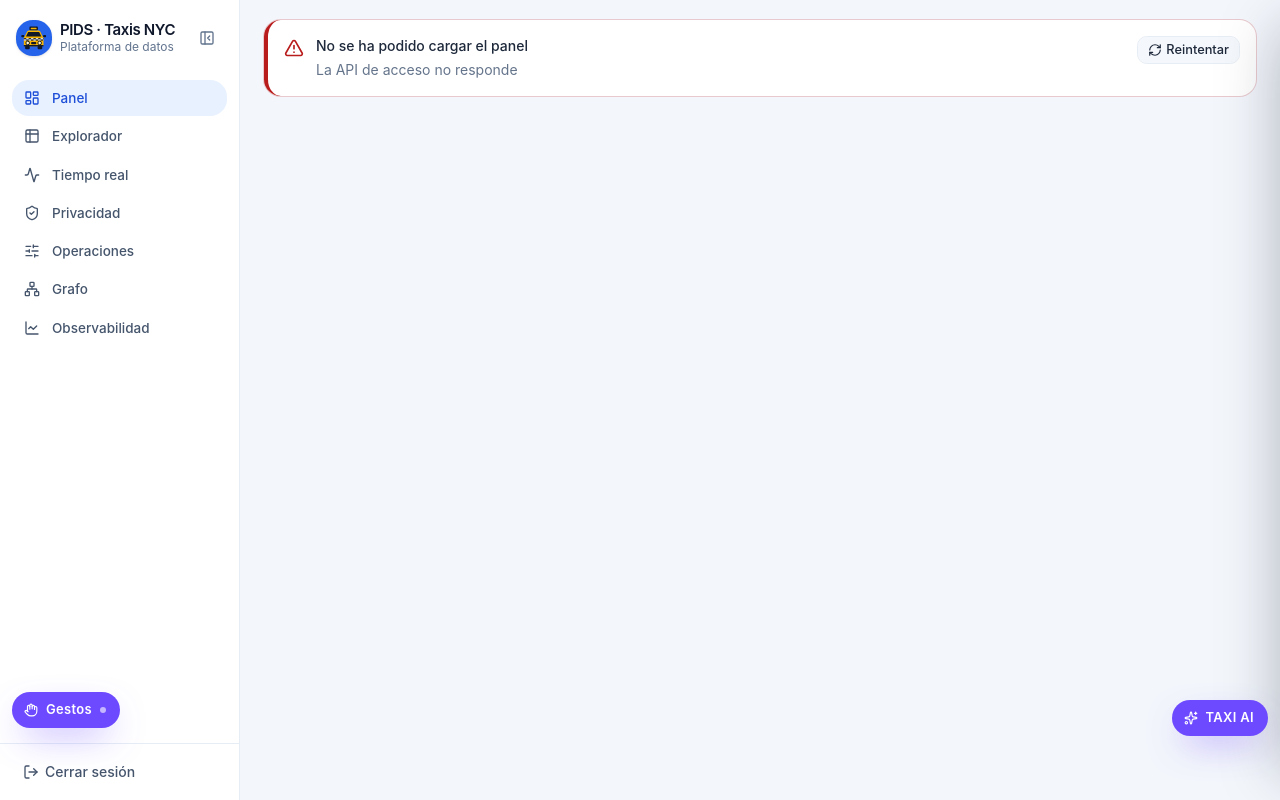
Test case: PaginaPanel › si el BFF falla, muestra el error con «Reintentar» y al pulsarlo vuelve a pedir el panel
The image size is (1280, 800).
expect the message shows "No se ha podido cargar el panel": met, box [316,37,528,54]
expect the message shows "La API de acceso no responde": met, box [316,61,518,78]
Click the button "Reintentar" at (1189, 50), box [1137,36,1240,64]
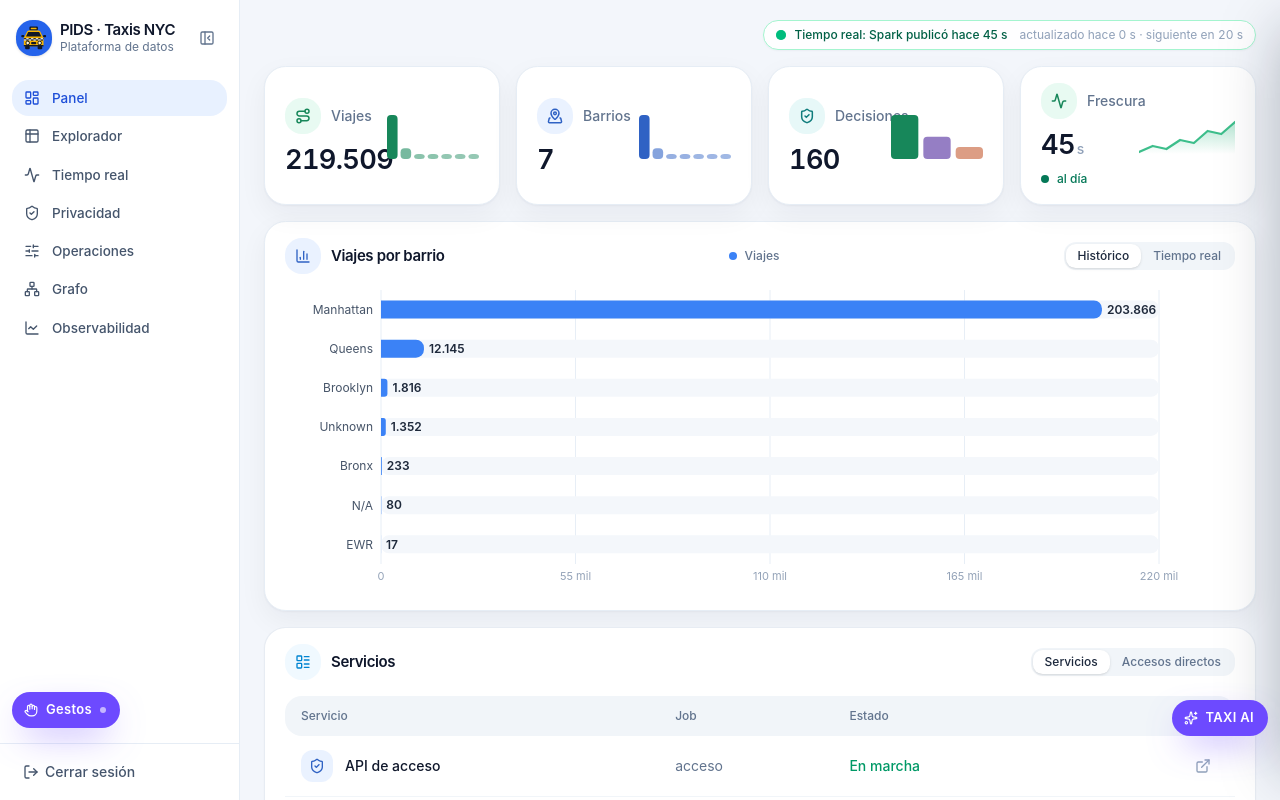
expect the text "219.509" is shown: met, box [285,146,375,173]
